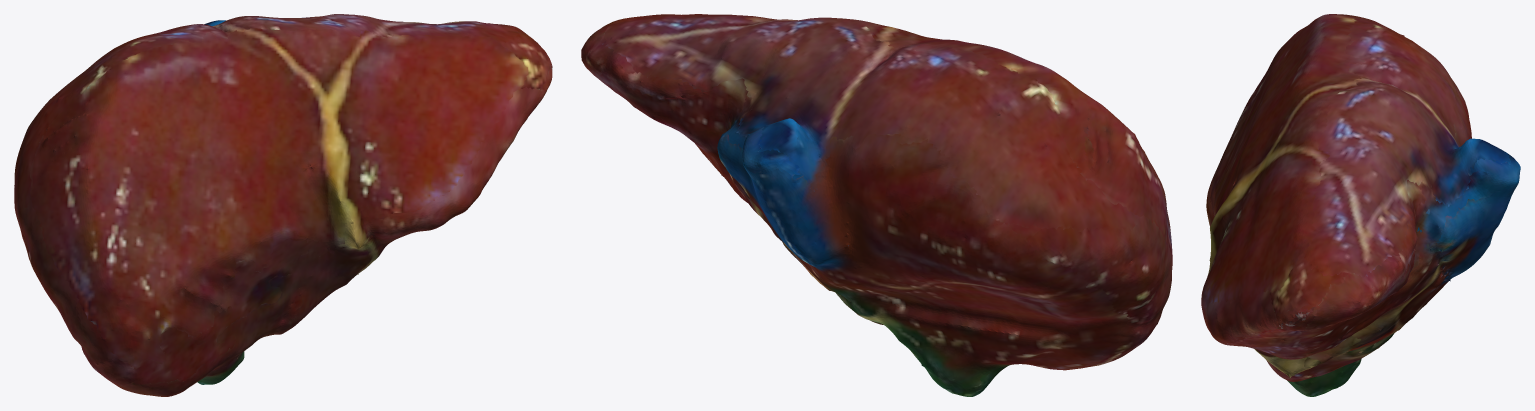
The model's file is healthy-liver.glb.
3 views of the same model, side by side, from view 1: azimuth 30°, elevation 25°; view 2: azimuth 150°, elevation 25°; view 3: azimuth 270°, elevation 25° (orthographic). The views are drawn at different scales.
Parts seen in each view (by area): view 1: fattyliver; view 2: fattyliver; view 3: fattyliver.
Boxes of the visible parts, x1,y1,x2,y2 form: fattyliver: (14,14,552,396); fattyliver: (581,14,1172,396); fattyliver: (1201,14,1520,396).
Size of the model in its own units: 0.2241 by 0.1385 by 0.1147.
1 material, 1 textured.
